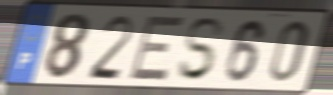0: (266, 18, 311, 87)
2: (86, 13, 135, 82)
6: (223, 18, 268, 84)
8: (42, 11, 94, 81)
E: (126, 14, 188, 83)
S: (175, 15, 227, 83)
